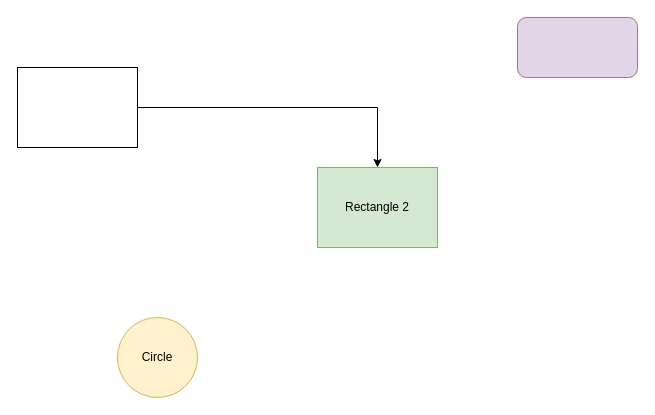
This 655x415 diagram has some shape labels left out. Each missing label, with the box of its shape:
Rectangle 1: (16, 66, 138, 148)
Test Element: (516, 16, 638, 78)
